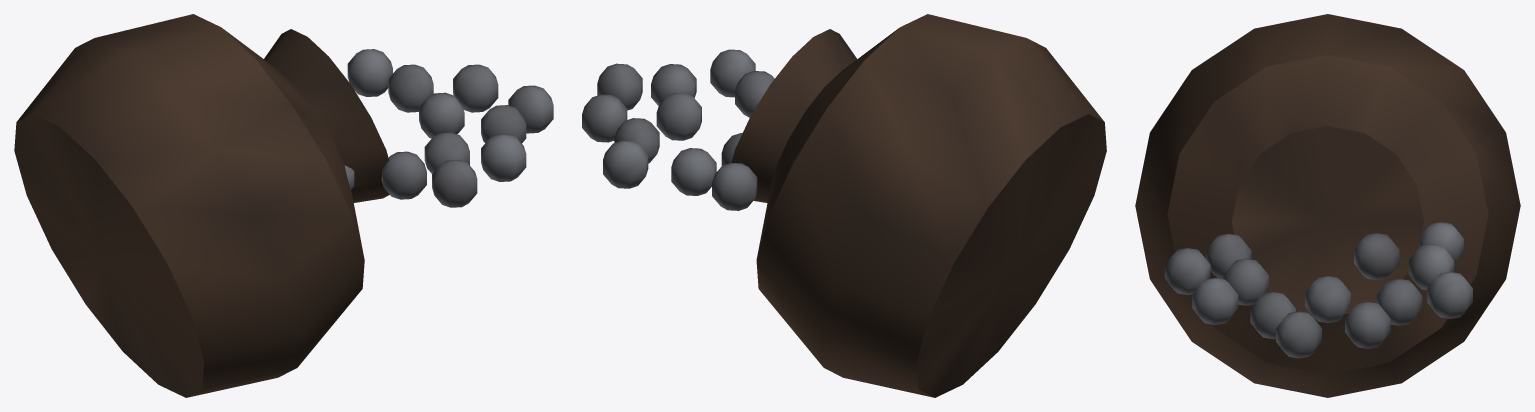
File: lead-shot.glb
3 renders of one model, left to right at view 1: azimuth 30°, elevation 25°; view 2: azimuth 150°, elevation 25°; view 3: azimuth 270°, elevation 25°, orthographic. The views are drawn at different scales.
Visible parts, largest first — view 1: lead-shot; view 2: lead-shot; view 3: lead-shot.
Part boxes in pixels (left/top/right/bottom): lead-shot: left=14, top=14, right=553, bottom=397; lead-shot: left=582, top=14, right=1106, bottom=397; lead-shot: left=1135, top=14, right=1520, bottom=397.
Size of the model in its own units: 0.1336 by 0.0917 by 0.096.
